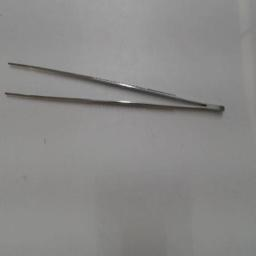DeBakey Dissector: (3, 49, 233, 125)
